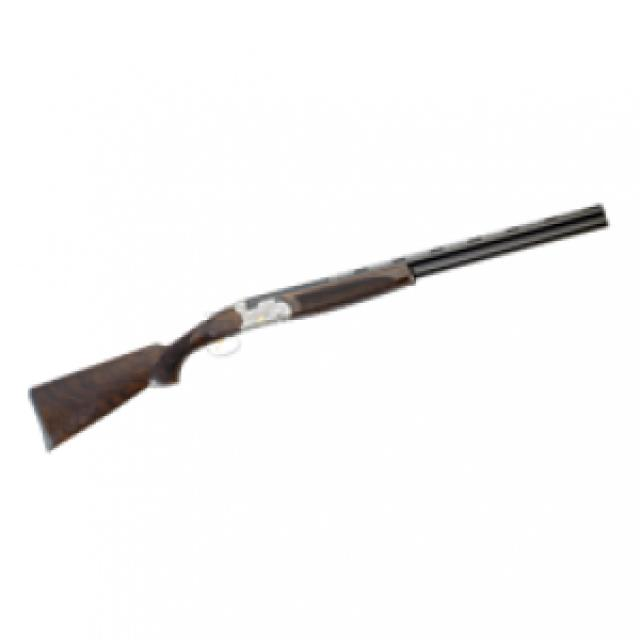rifle: (21, 176, 612, 486)
